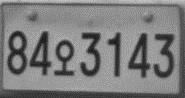1: (106, 31, 122, 77)
3: (79, 31, 102, 77), (153, 32, 175, 79)
4: (28, 29, 53, 76), (126, 32, 150, 78)
8: (7, 29, 27, 76)
오: (51, 39, 75, 77)
